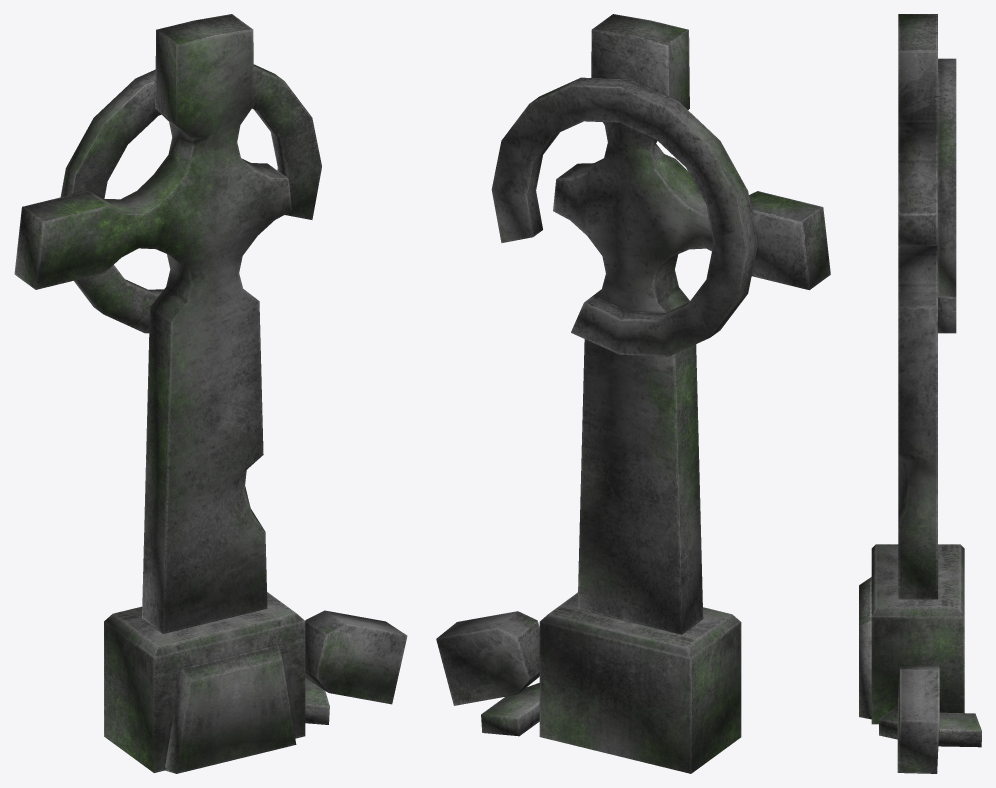
File: BrokenTallGrave.fbx
3 views of the same model, side by side, from view 1: azimuth 30°, elevation 25°; view 2: azimuth 150°, elevation 25°; view 3: azimuth 270°, elevation 25° (orthographic). The views are drawn at different scales.
Parts seen in each view (by area): view 1: defaultMaterial; view 2: defaultMaterial; view 3: defaultMaterial.
Part boxes in pixels (<box>): defaultMaterial: <box>14,14,407,773</box>; defaultMaterial: <box>436,14,830,773</box>; defaultMaterial: <box>859,14,981,773</box>.
Bounding box in the file's own units: 110 × 201 × 33.83.
